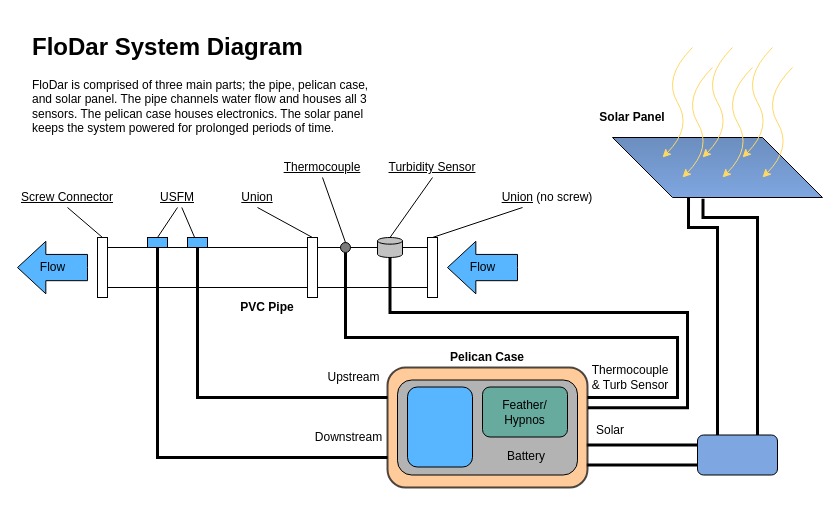
Some shapes in this 840 by 505 pixel diagram are drawn without their labels. Here are the shapes that lost their labels. From the top down, the centre of each, then its label:
the point at 439,426: USFM Controller
the point at 737,454: Converter
